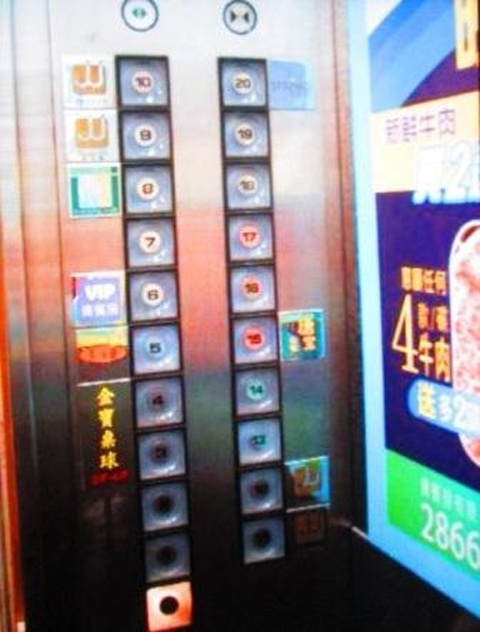10: (113, 51, 172, 108)
13: (233, 417, 284, 467)
14: (230, 365, 283, 417)
15: (227, 314, 280, 366)
16: (225, 263, 278, 315)
17: (223, 211, 276, 263)
18: (221, 160, 274, 212)
19: (218, 104, 271, 156)
20: (216, 55, 269, 107)
3: (132, 429, 189, 481)
4: (130, 375, 187, 427)
5: (125, 322, 182, 374)
6: (123, 269, 180, 321)
7: (120, 215, 177, 268)
8: (119, 162, 176, 215)
9: (116, 108, 173, 161)
blur: (137, 482, 190, 531), (139, 533, 192, 582), (236, 467, 285, 516), (236, 516, 285, 565), (144, 582, 193, 631)
close: (218, 1, 260, 36)
open: (117, 1, 161, 33)
